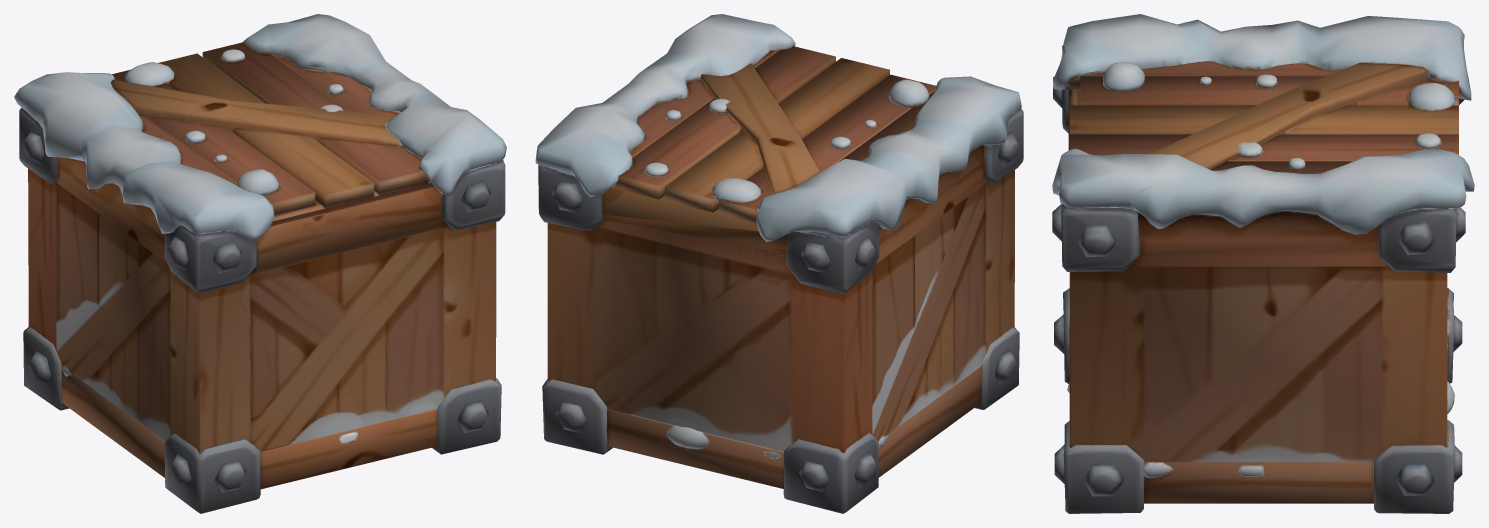
File: selected.glb
The picture shows the model from 3 angles, left to right: view 1: azimuth 30°, elevation 25°; view 2: azimuth 150°, elevation 25°; view 3: azimuth 270°, elevation 25°; orthographic projection. The views are drawn at different scales.
Visible parts, largest first — view 1: tripo_node_d81e48ad-5887-4af8-a249-e3b8cd8389b6; view 2: tripo_node_d81e48ad-5887-4af8-a249-e3b8cd8389b6; view 3: tripo_node_d81e48ad-5887-4af8-a249-e3b8cd8389b6.
Part boxes in pixels (<box>): tripo_node_d81e48ad-5887-4af8-a249-e3b8cd8389b6: <box>14,14,506,513</box>; tripo_node_d81e48ad-5887-4af8-a249-e3b8cd8389b6: <box>535,14,1023,513</box>; tripo_node_d81e48ad-5887-4af8-a249-e3b8cd8389b6: <box>1052,14,1474,513</box>.
Size of the model in its own units: 0.998 by 0.9004 by 0.998.
Materials: 1 (1 with a texture image).
